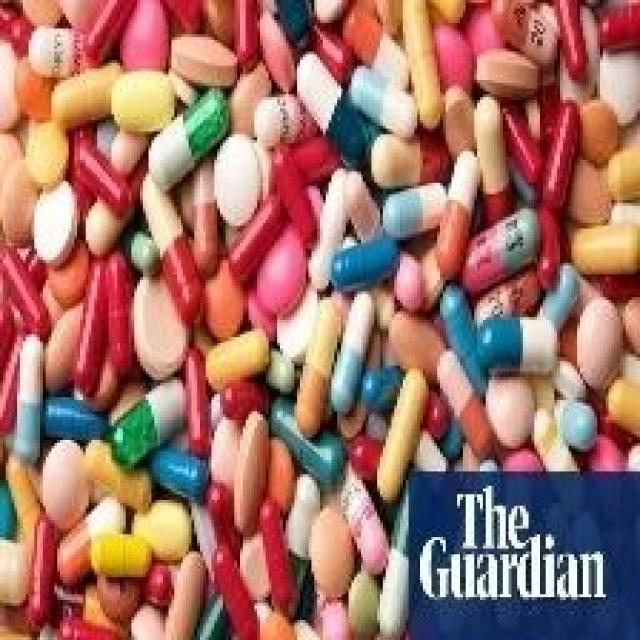Medicine: (0, 0, 640, 464), (7, 446, 398, 640)
